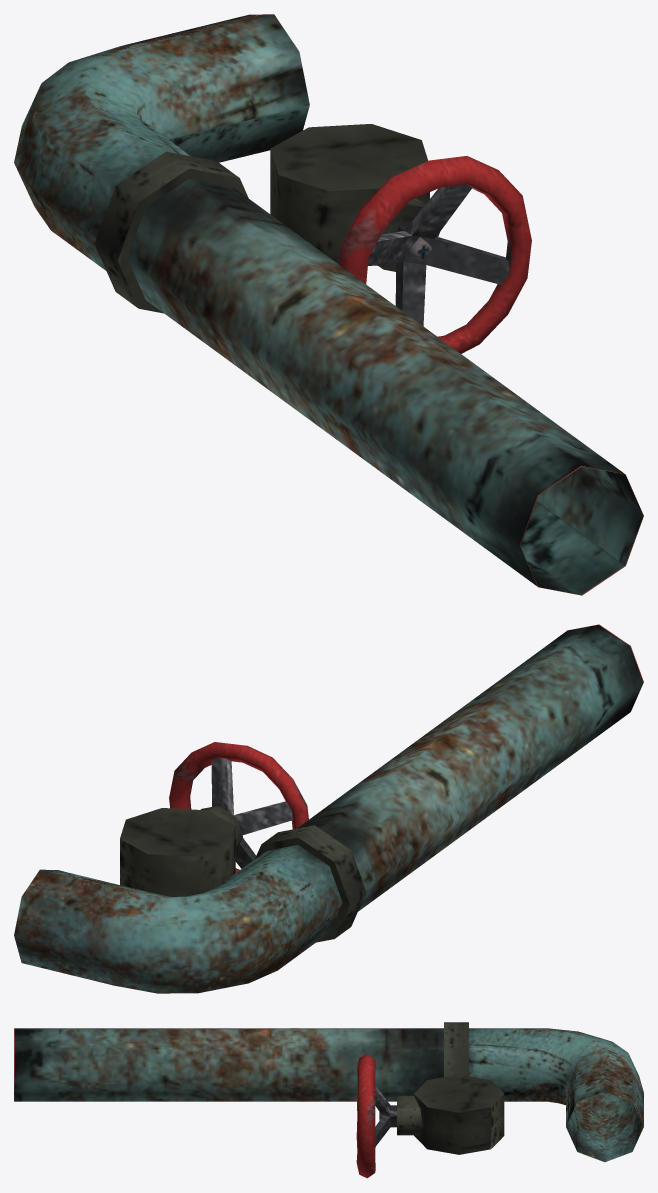
The model's file is Tuberias.fbx.
3 views of the same model, one above another, from view 1: azimuth 30°, elevation 25°; view 2: azimuth 150°, elevation 25°; view 3: azimuth 270°, elevation 25° (orthographic). The views are drawn at different scales.
Visible parts, largest first — view 1: TuberiaLarga, Curva, Valv, SoporteValv, Junta; view 2: TuberiaLarga, Curva, SoporteValv, Valv, Junta; view 3: TuberiaLarga, Curva, SoporteValv, Valv, Junta.
Part boxes in pixels (x1,y1,x2,y2): TuberiaLarga: (127,178,643,595); Curva: (14,14,309,270); Valv: (339,156,531,353); SoporteValv: (270,124,439,271); Junta: (94,151,248,313); TuberiaLarga: (297,624,643,911); Curva: (14,845,342,993); SoporteValv: (120,805,242,896); Valv: (169,742,308,872); Junta: (255,825,366,942); TuberiaLarga: (14,1028,443,1101); Curva: (469,1028,643,1162); SoporteValv: (397,1074,504,1154); Valv: (356,1054,396,1178); Junta: (444,1022,468,1077).
Bounding box in the file's own units: 0.5745 × 0.3241 × 1.67.
